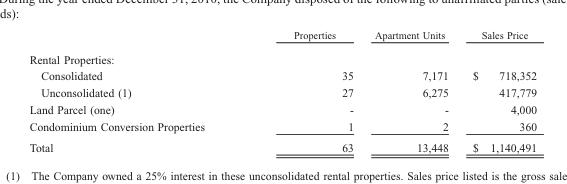table: (28, 29, 536, 153)
table column: (28, 29, 248, 153), (248, 29, 363, 153), (363, 29, 459, 153), (459, 29, 536, 153)
table column header: (28, 29, 536, 46)
table projected row header: (28, 46, 536, 67)
table row: (28, 46, 536, 67), (28, 117, 536, 136), (28, 29, 536, 46), (28, 67, 536, 84), (28, 100, 536, 117), (28, 136, 536, 153), (28, 84, 536, 100)
